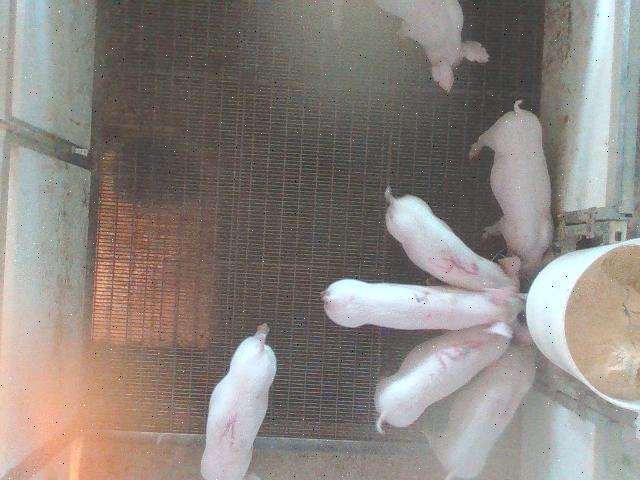pig-1: (201, 331, 276, 479)
pig-3: (376, 326, 510, 433)
pig-4: (428, 344, 535, 479)
pig-5: (386, 189, 521, 291)
